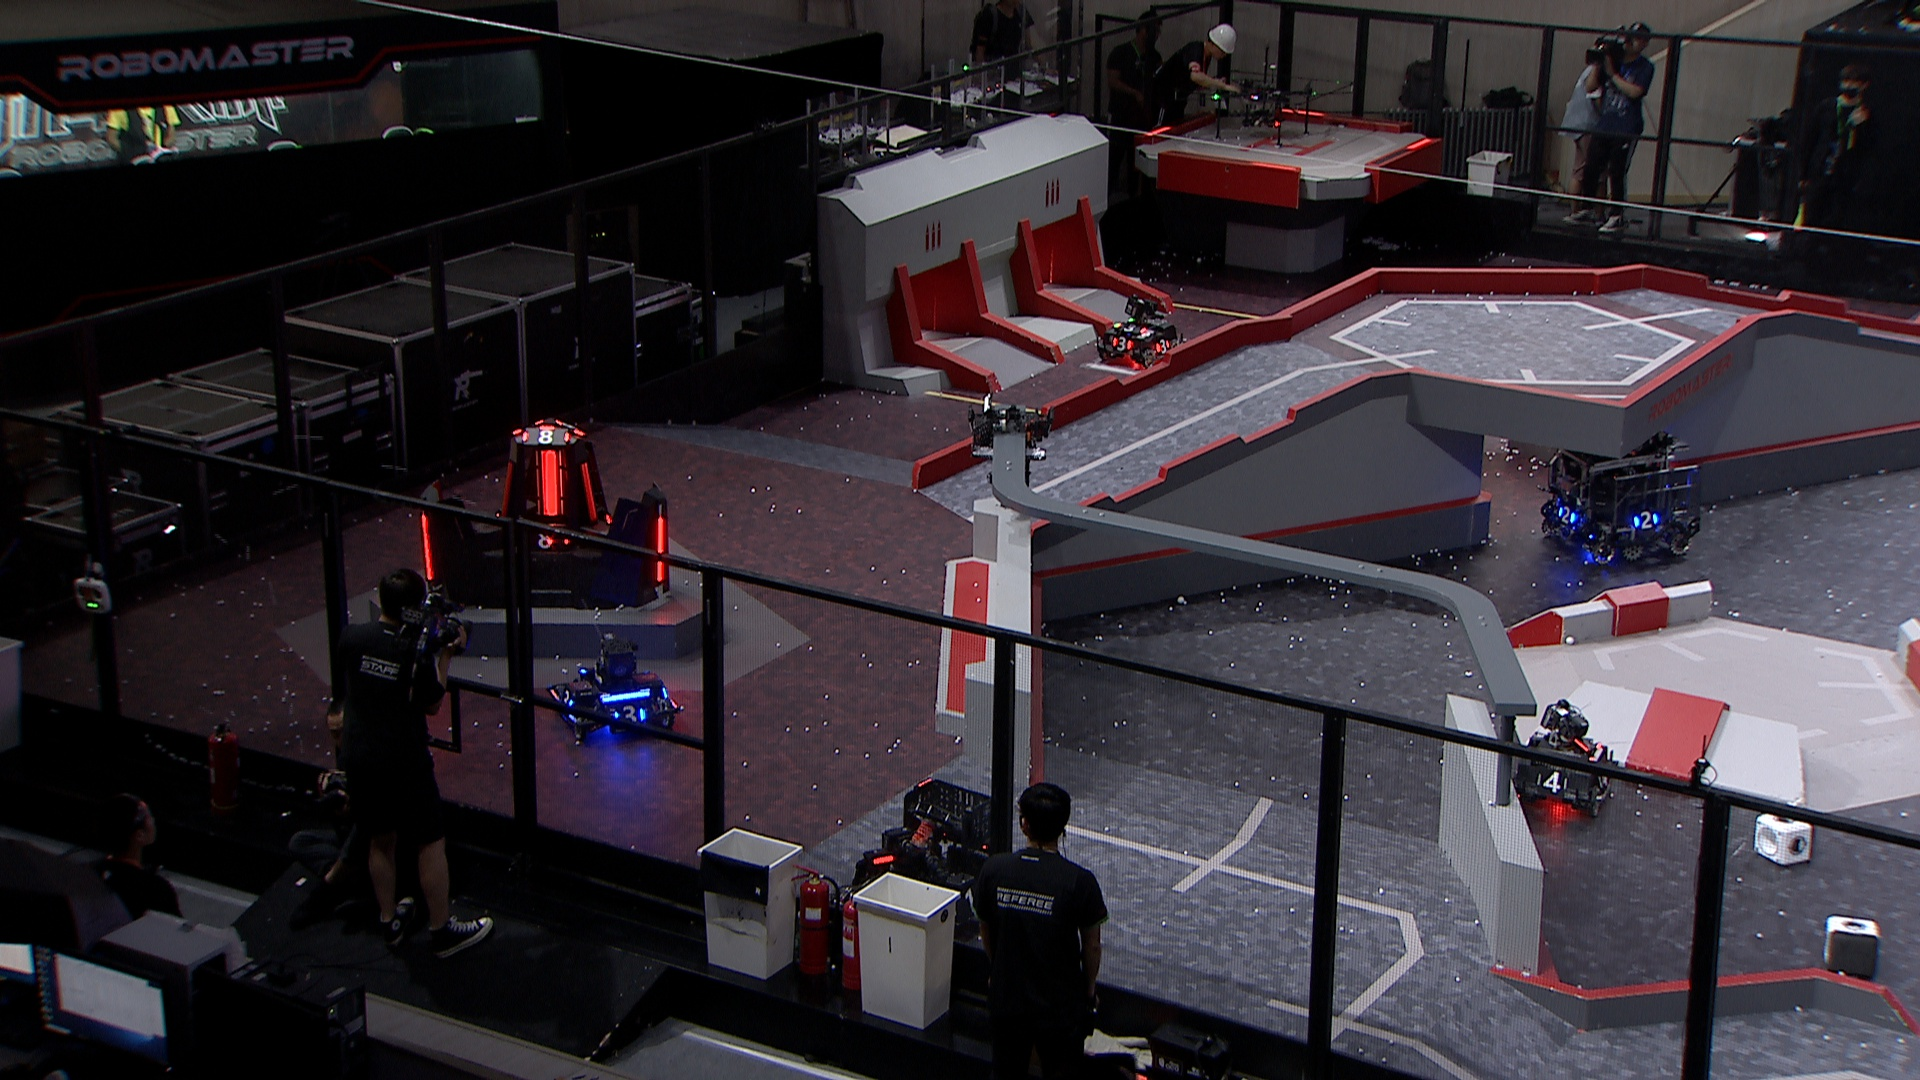armor: (535, 448, 562, 520), (418, 509, 436, 585), (576, 460, 599, 522), (518, 425, 571, 447), (496, 458, 514, 517), (651, 514, 666, 584), (531, 527, 571, 553), (615, 703, 650, 727), (1534, 770, 1571, 793), (959, 884, 981, 915), (1629, 510, 1662, 531), (1116, 319, 1149, 338), (1555, 504, 1580, 527), (1109, 334, 1133, 353), (555, 688, 574, 713), (1594, 770, 1611, 793), (1153, 334, 1171, 353)
base: (411, 414, 671, 613)
car: (847, 773, 1010, 945), (1542, 429, 1700, 570), (550, 628, 684, 741), (1510, 698, 1619, 818), (1091, 291, 1188, 375)
watcher: (967, 394, 1054, 493)
